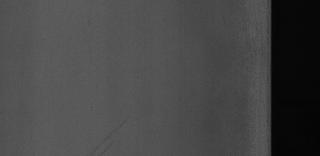water spot: (92, 121, 131, 156)
